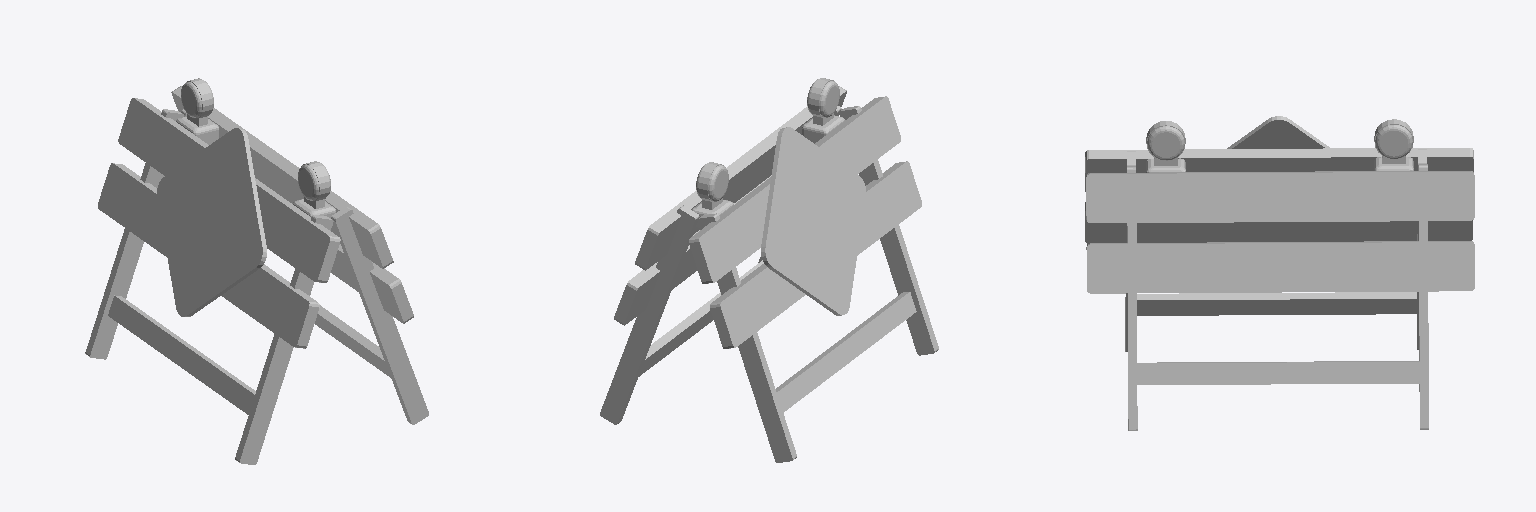
File: senal.obj
The picture shows the model from 3 angles: view 1: azimuth 30°, elevation 25°; view 2: azimuth 150°, elevation 25°; view 3: azimuth 270°, elevation 25°; orthographic projection.
Visible parts, largest first — view 1: señal; view 2: señal; view 3: señal.
Boxes of the visible parts, box(x1,y1,x2,y2) form: señal: box(85, 78, 428, 464); señal: box(600, 78, 938, 462); señal: box(1085, 116, 1474, 430).
Bounding box in the file's own units: 2.47 × 3.23 × 4.27.